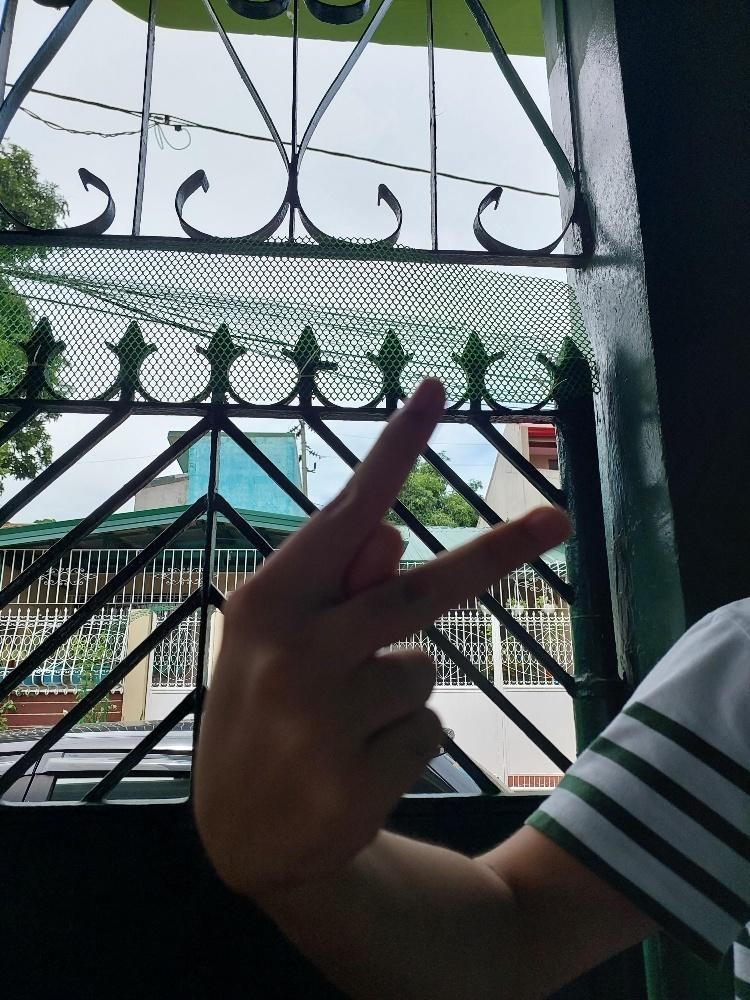k: (188, 367, 574, 896)
